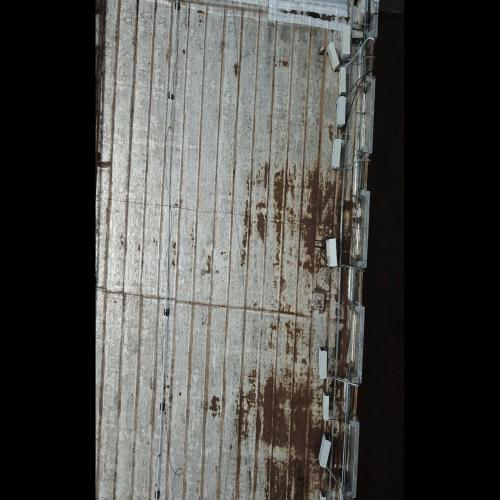conde: (318, 433, 333, 472), (340, 23, 353, 63), (325, 237, 340, 271), (335, 96, 348, 132), (327, 40, 341, 73), (318, 345, 329, 383), (332, 138, 344, 172), (339, 66, 349, 97), (322, 391, 332, 422), (319, 489, 329, 500)
